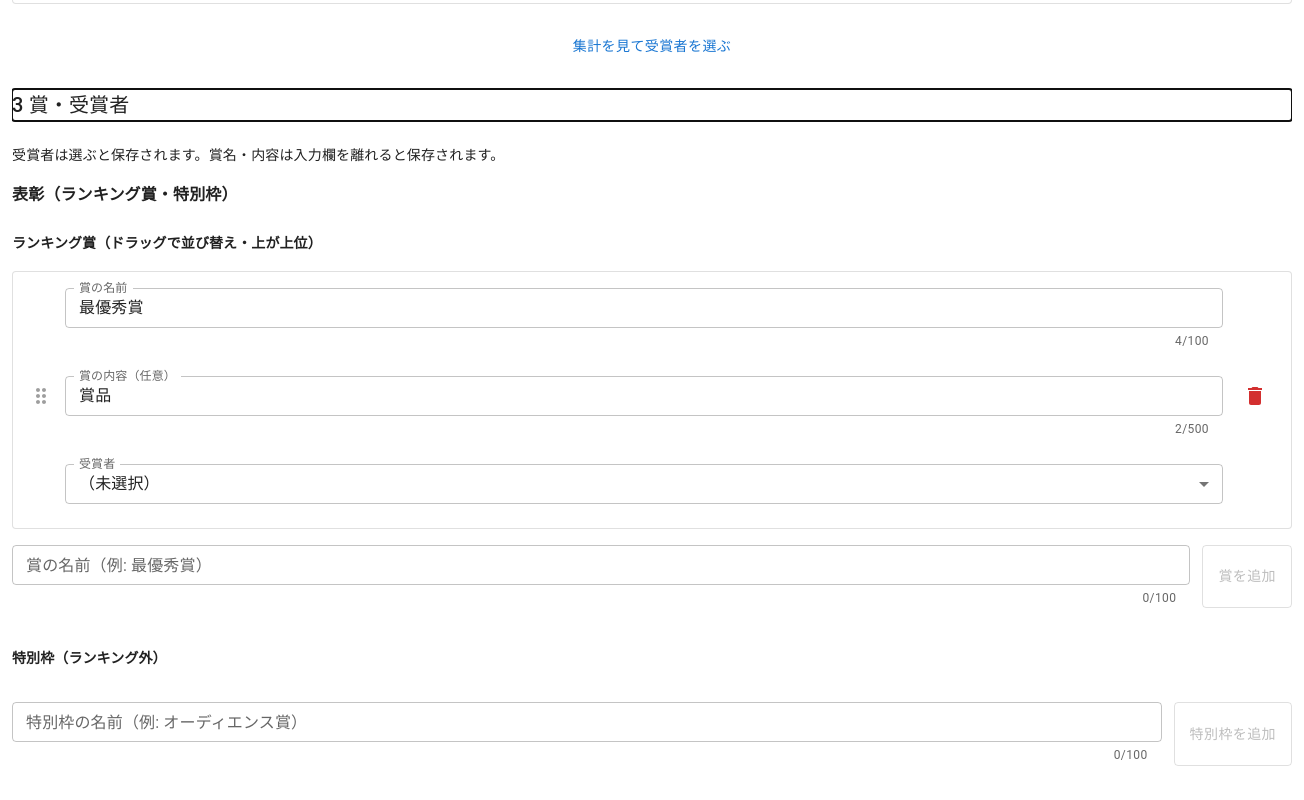
Scenario: restoring a failed blur edit resets the local field even if its server initial value is unchanged
This screenshot has width=1304, height=800.
(page scrolled)
Replace the text in the field labelled "賞の名前" with "未保存の名前": (644, 308) [65, 288, 1223, 328]
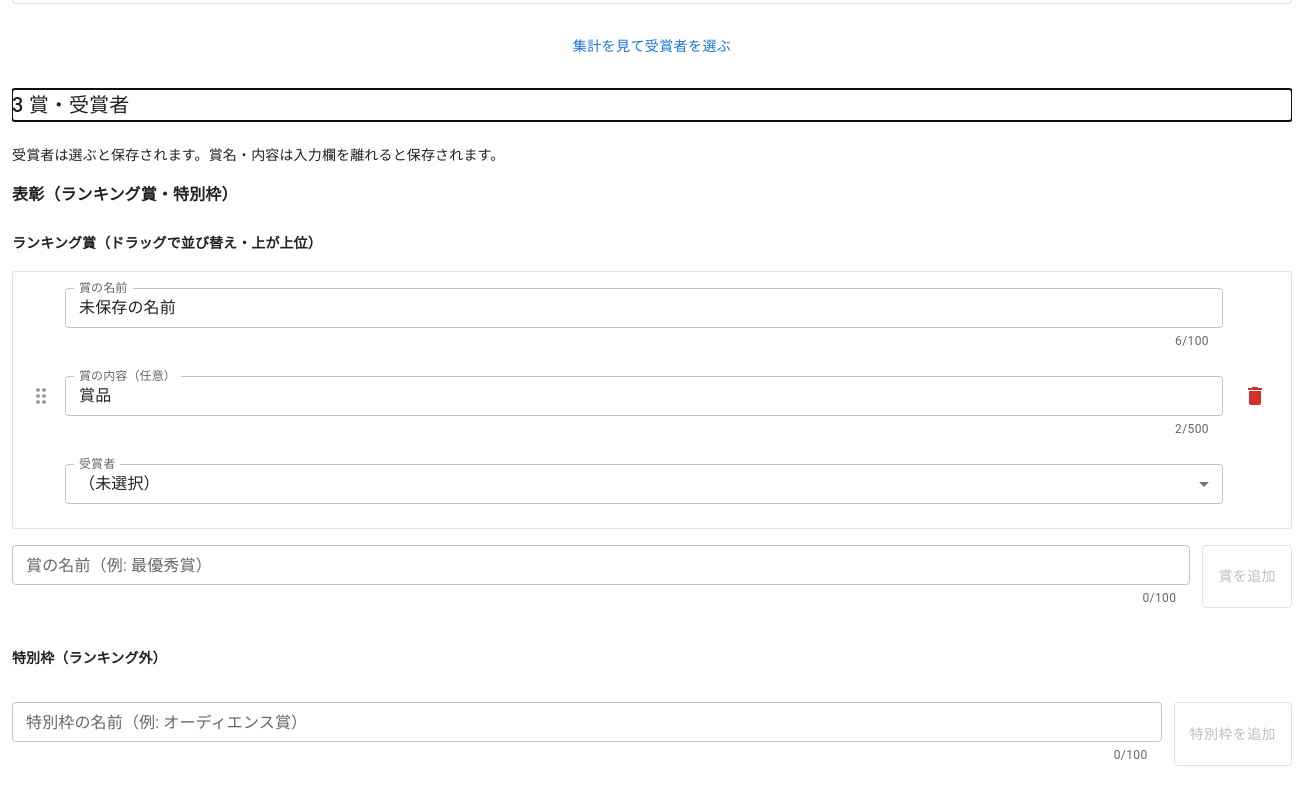
Leave the field labelled "賞の名前", box [65, 288, 1223, 328]
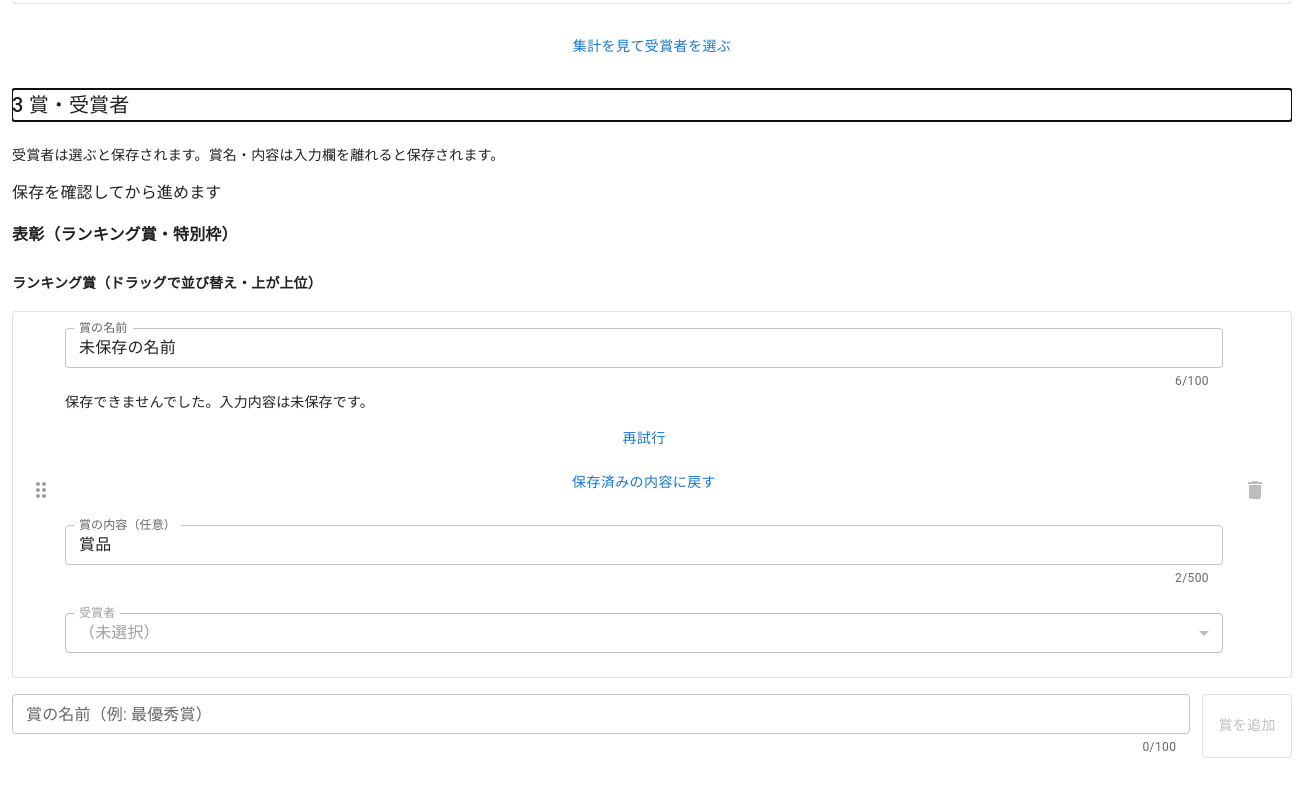
expect the text "保存できませんでした。入力内容は未保存です。" is shown: met, box [65, 394, 374, 410]
expect the button named "削除" is disabled: met, box [1235, 470, 1275, 510]
Click the button "保存済みの内容に戻す": (644, 482) [65, 464, 1223, 501]
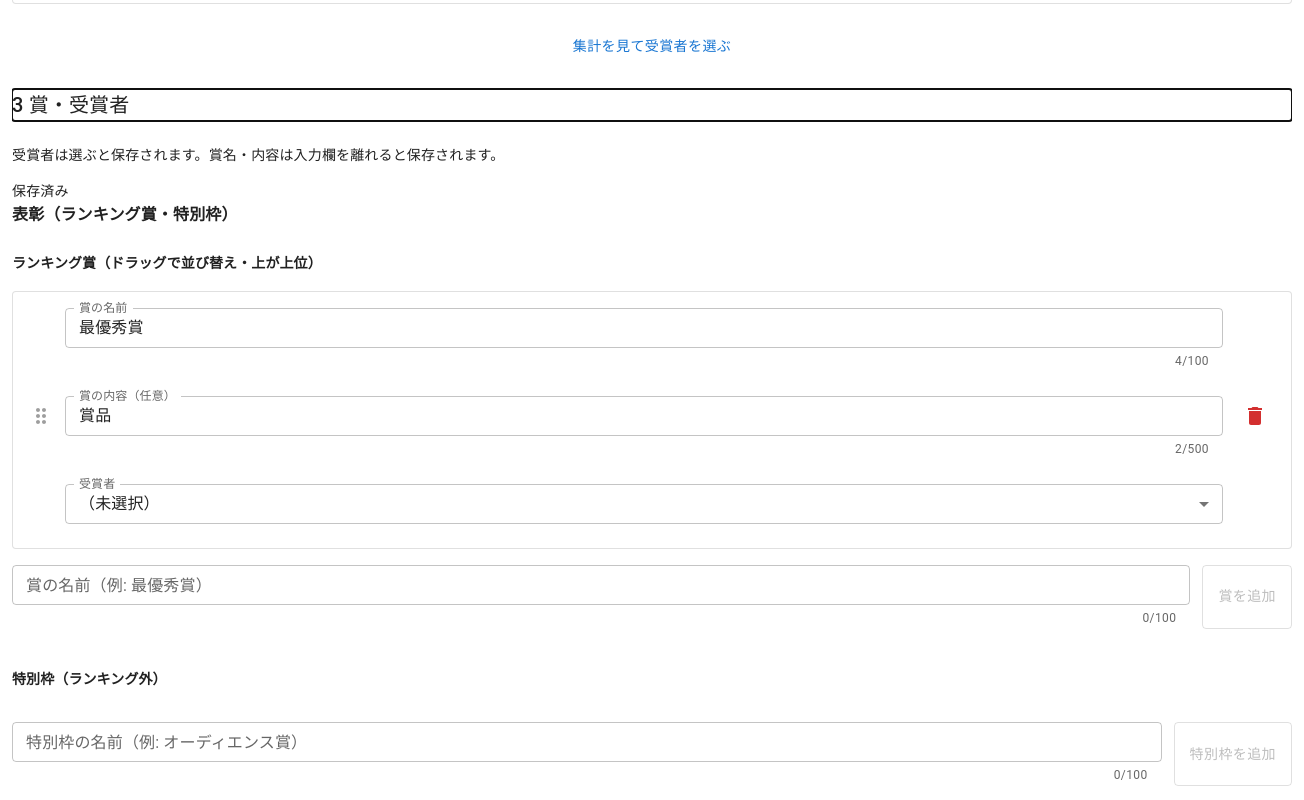
expect the field labelled "賞の名前" holds "最優秀賞": met, box [65, 308, 1223, 348]
expect the button named "削除" is enabled: met, box [1235, 396, 1275, 436]
